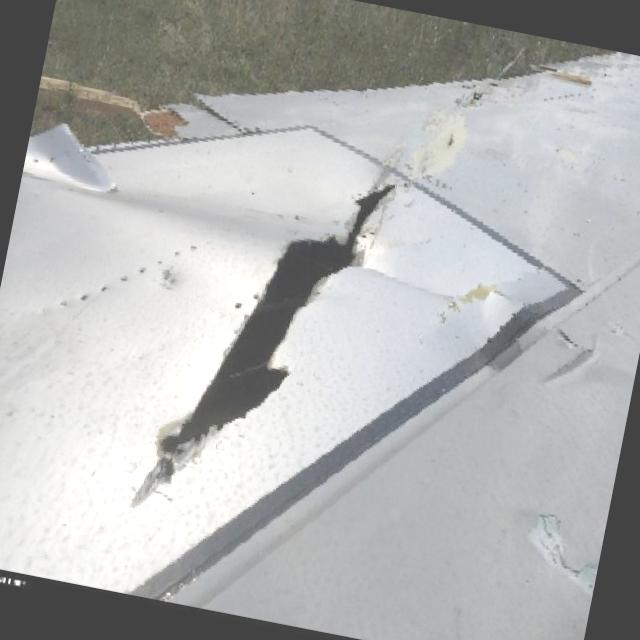crack: (125, 144, 398, 540), (441, 127, 462, 153)
